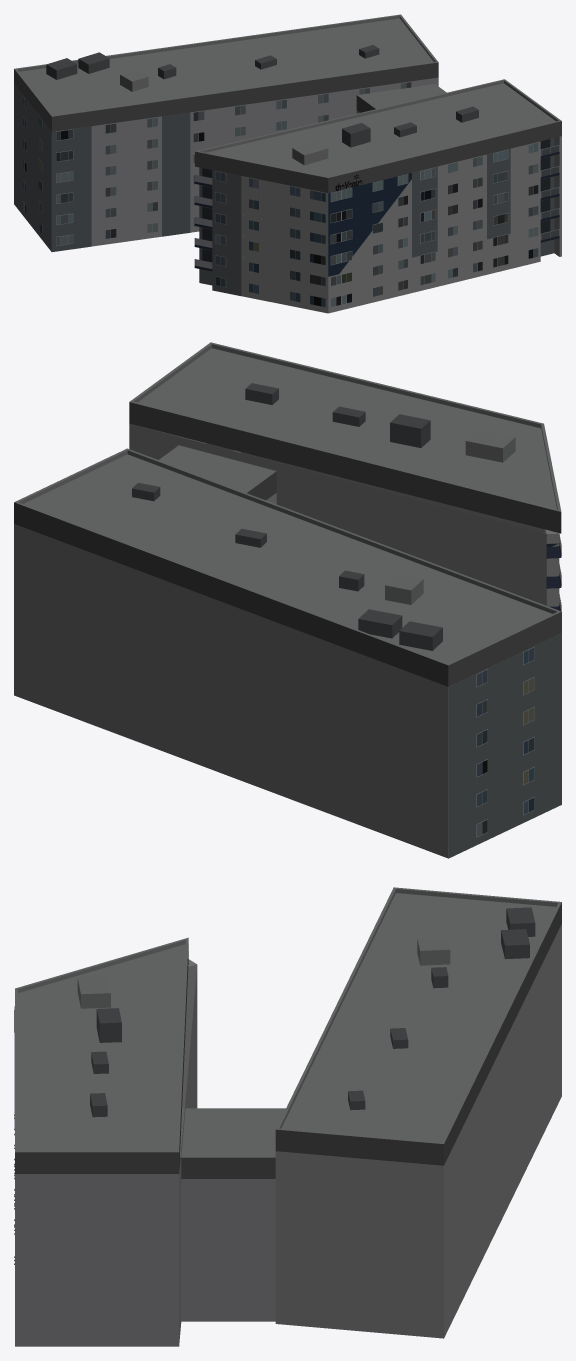
Rendered from venue-look.glb.
3 views of the same model, one above another, from view 1: azimuth 30°, elevation 25°; view 2: azimuth 150°, elevation 25°; view 3: azimuth 270°, elevation 25° (orthographic). The views are drawn at different scales.
Parts seen in each view (by area): view 1: n_white, n_roof, n_grey, n_glass, n_band, n_frame, n_blue, n_unit, n_bulkhead, n_slab; view 2: n_white, n_roof, n_band, n_grey, n_unit, n_bulkhead, n_glass, n_frame; view 3: n_white, n_roof, n_band, n_unit, n_bulkhead.
Boxes of the visible parts, left/top/right/bottom form: n_white: left=16, top=77, right=561, bottom=313; n_roof: left=14, top=14, right=561, bottom=177; n_grey: left=14, top=84, right=554, bottom=295; n_glass: left=23, top=82, right=559, bottom=307; n_band: left=14, top=62, right=561, bottom=192; n_frame: left=23, top=81, right=559, bottom=307; n_blue: left=328, top=173, right=411, bottom=276; n_unit: left=46, top=45, right=478, bottom=147; n_bulkhead: left=120, top=69, right=328, bottom=165; n_slab: left=194, top=151, right=559, bottom=271; n_white: left=14, top=423, right=561, bottom=858; n_roof: left=14, top=342, right=561, bottom=665; n_band: left=14, top=402, right=561, bottom=686; n_grey: left=448, top=534, right=561, bottom=858; n_unit: left=132, top=383, right=442, bottom=650; n_bulkhead: left=385, top=429, right=515, bottom=604; n_glass: left=477, top=535, right=561, bottom=836; n_frame: left=476, top=534, right=561, bottom=837; n_white: left=15, top=924, right=561, bottom=1346; n_roof: left=15, top=887, right=561, bottom=1157; n_band: left=15, top=902, right=561, bottom=1178; n_unit: left=90, top=907, right=535, bottom=1117; n_bulkhead: left=77, top=937, right=450, bottom=1008.
Bounding box in the file's own units: 62.05 × 22.91 × 54.24.
